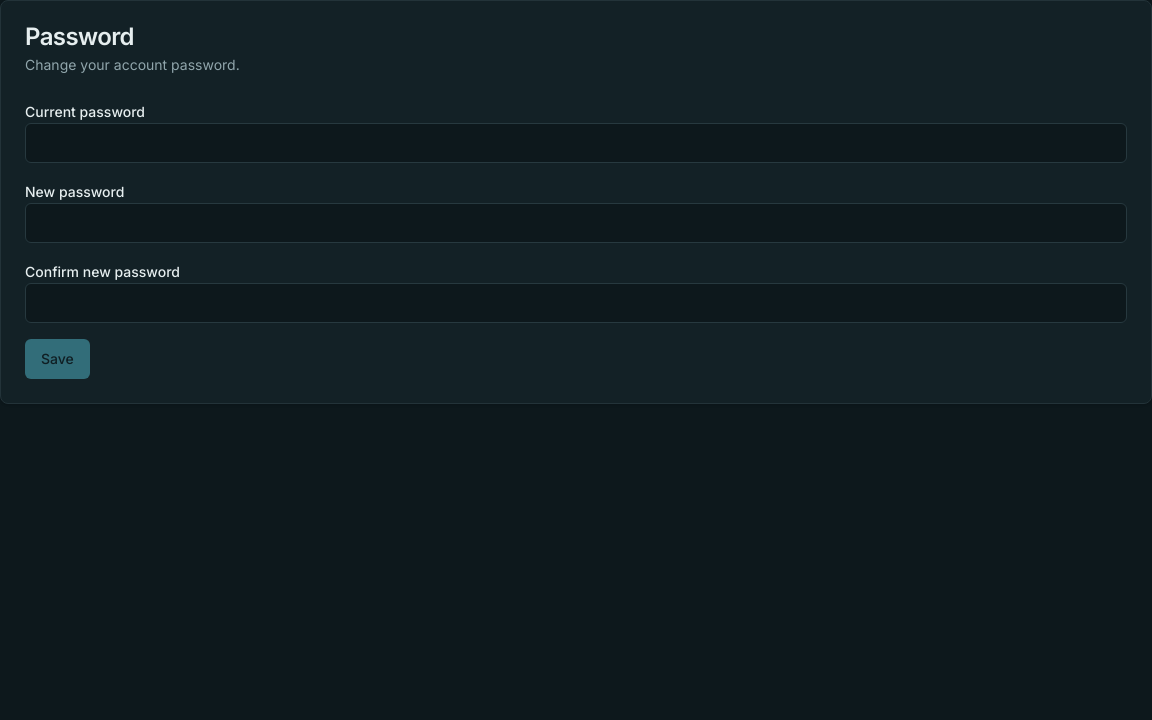
Test: PasswordCard › submits and shows the success message, then clears the inputs
This screenshot has width=1152, height=720.
Type "OldPassw0rd!!" into the password field labelled "Current password" at (576, 143), box [25,123,1127,163]
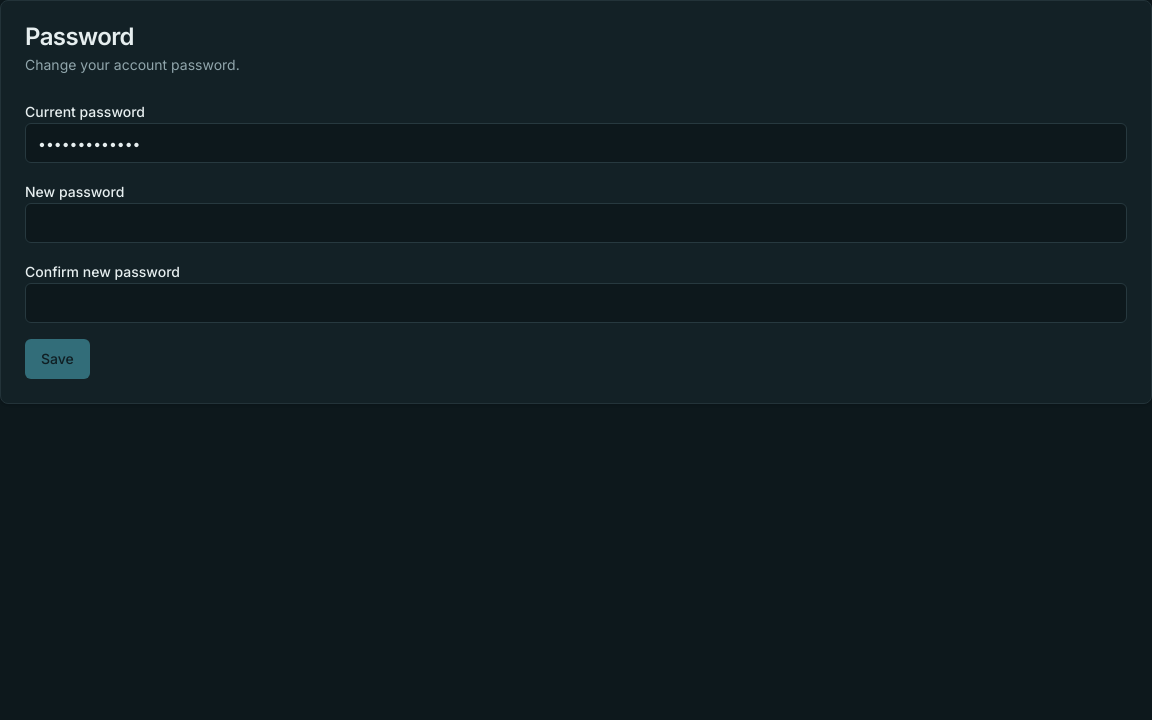
Type "NewPassw0rd!!" into the password field labelled "New password" at (576, 223), box [25,203,1127,243]
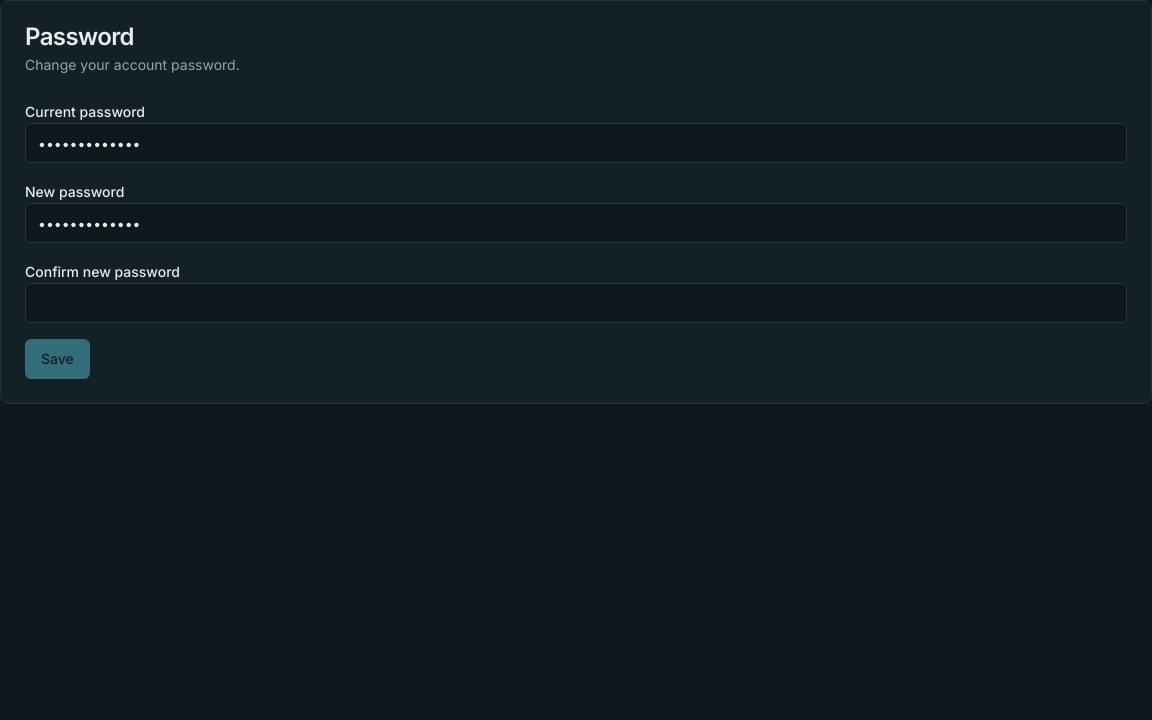
Type "NewPassw0rd!!" into the password field labelled "Confirm new password" at (576, 303), box [25,283,1127,323]
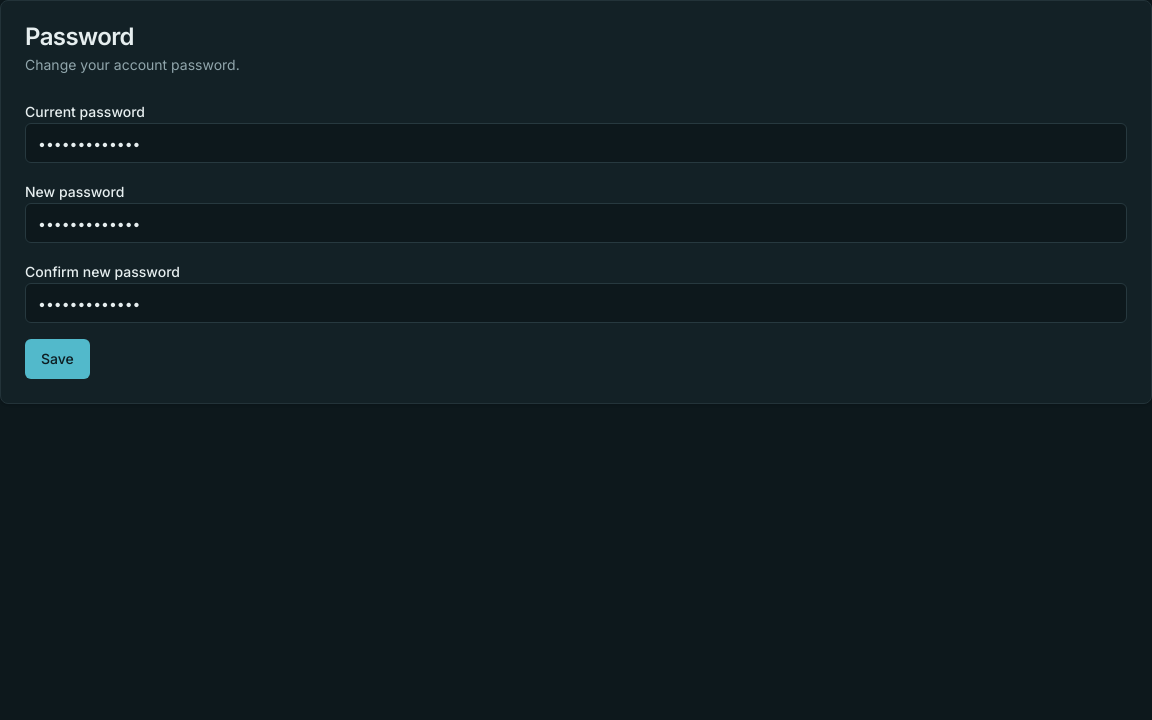
Submit the form named "change password", box [25,99,1127,379]
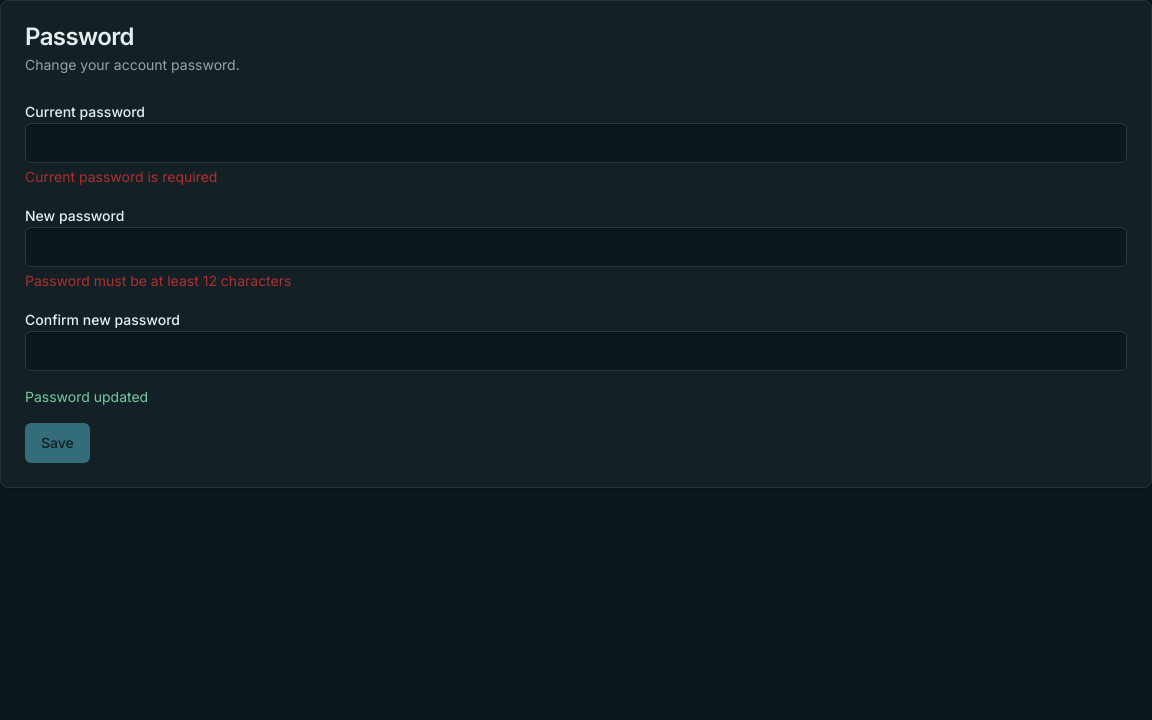
Result: the message "Password updated" is shown at [25,388,148,405]
Result: the password field labelled "New password" is empty at [25,227,1127,267]
